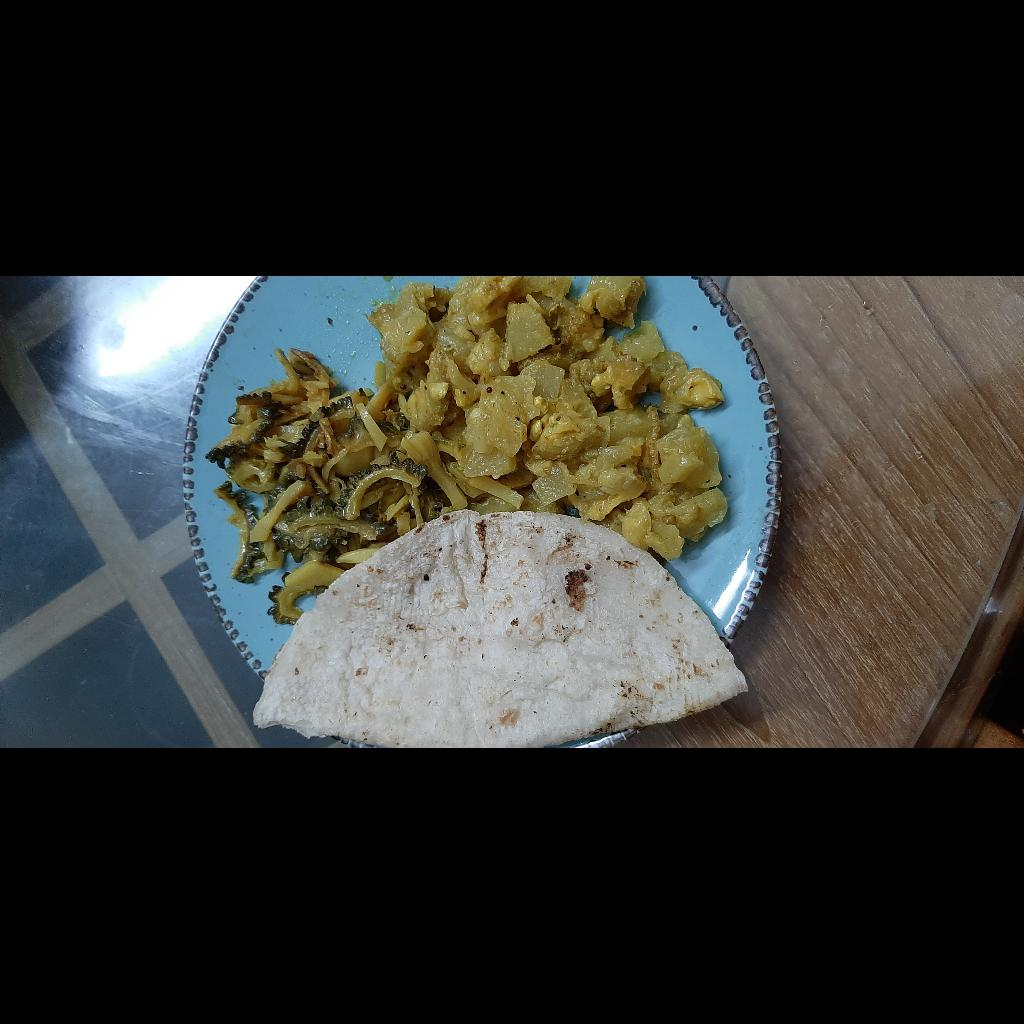korola-vaji: (128, 472, 402, 732)
kumra-vaji: (183, 643, 472, 1005)
potato: (231, 627, 348, 848), (205, 522, 270, 595)
ruti: (1, 529, 239, 1024)
